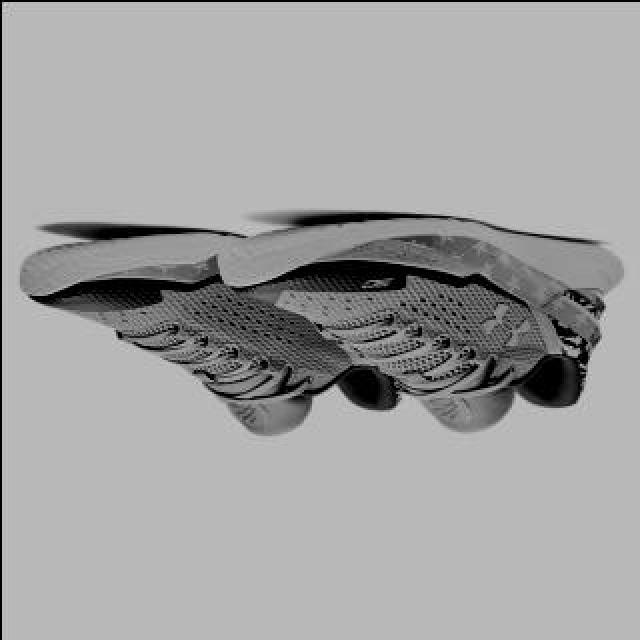shoe: (216, 212, 622, 432), (16, 230, 420, 434)
